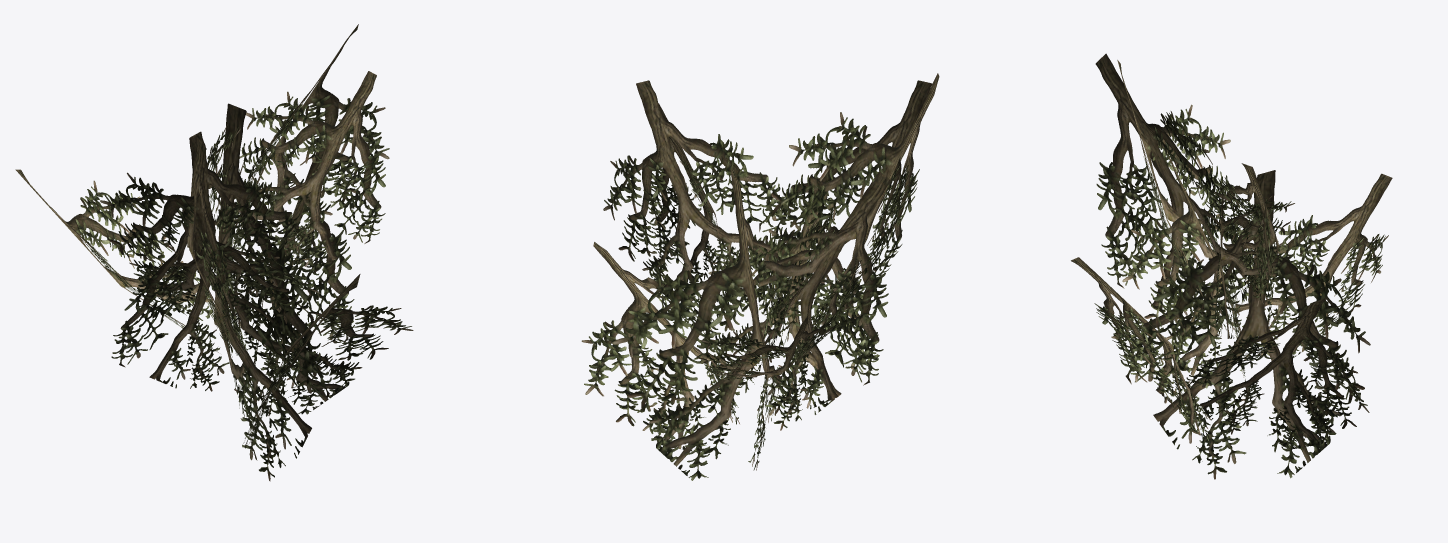
The model's file is bush1.glb.
3 views of the same model, side by side, from view 1: azimuth 30°, elevation 25°; view 2: azimuth 150°, elevation 25°; view 3: azimuth 270°, elevation 25° (orthographic). The views are drawn at different scales.
Visible parts, largest first — view 1: Bush1; view 2: Bush1; view 3: Bush1.
Boxes of the visible parts, <box> form: Bush1: <box>15,24,413,481</box>; Bush1: <box>581,73,939,480</box>; Bush1: <box>1071,53,1392,479</box>.
Size of the model in its own units: 3.92 by 4.87 by 4.01.
1 material, 1 textured.
